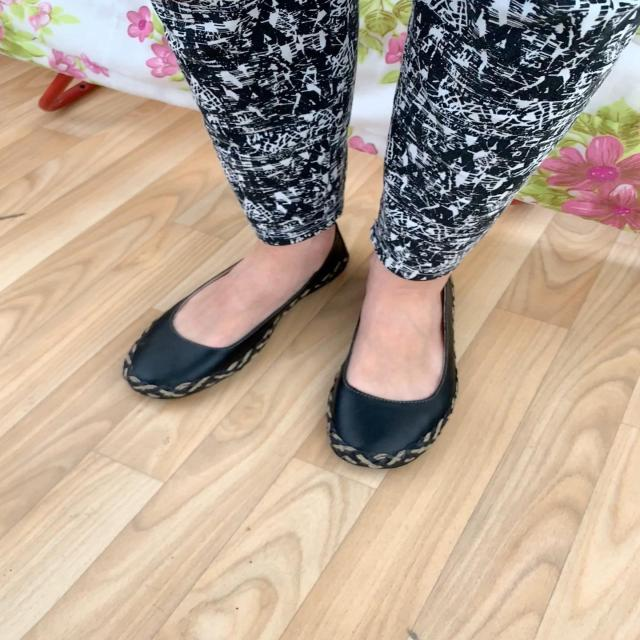shoe: (123, 0, 357, 400), (326, 257, 452, 470)
